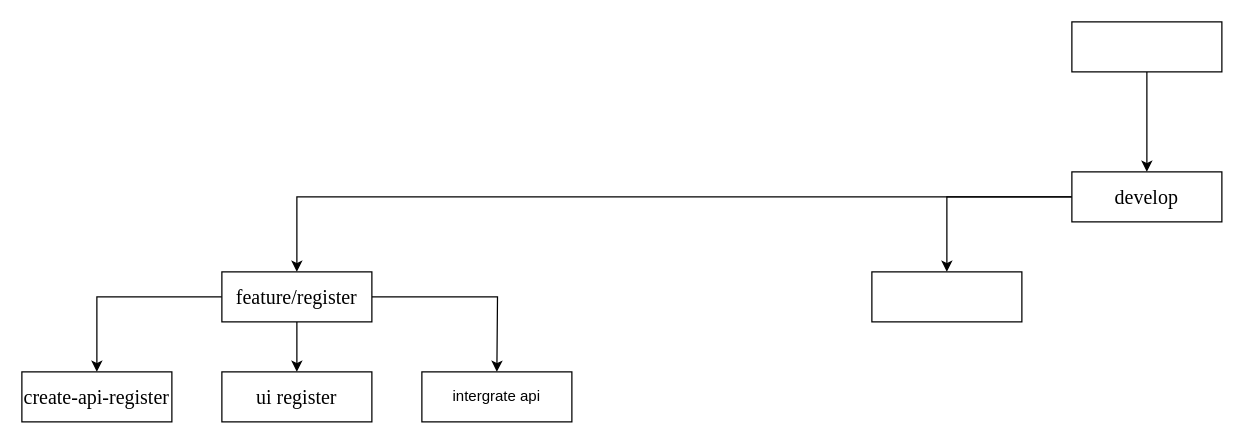
Some shapes in this 1244 by 444 pixel diagram are drawn without their labels. The shapes that lost their labels are listed below. From the top down, each one's centre as x and y in pixels, then its label:
At pixel 1146 46: "Main".
At pixel 946 296: "feature/login".
